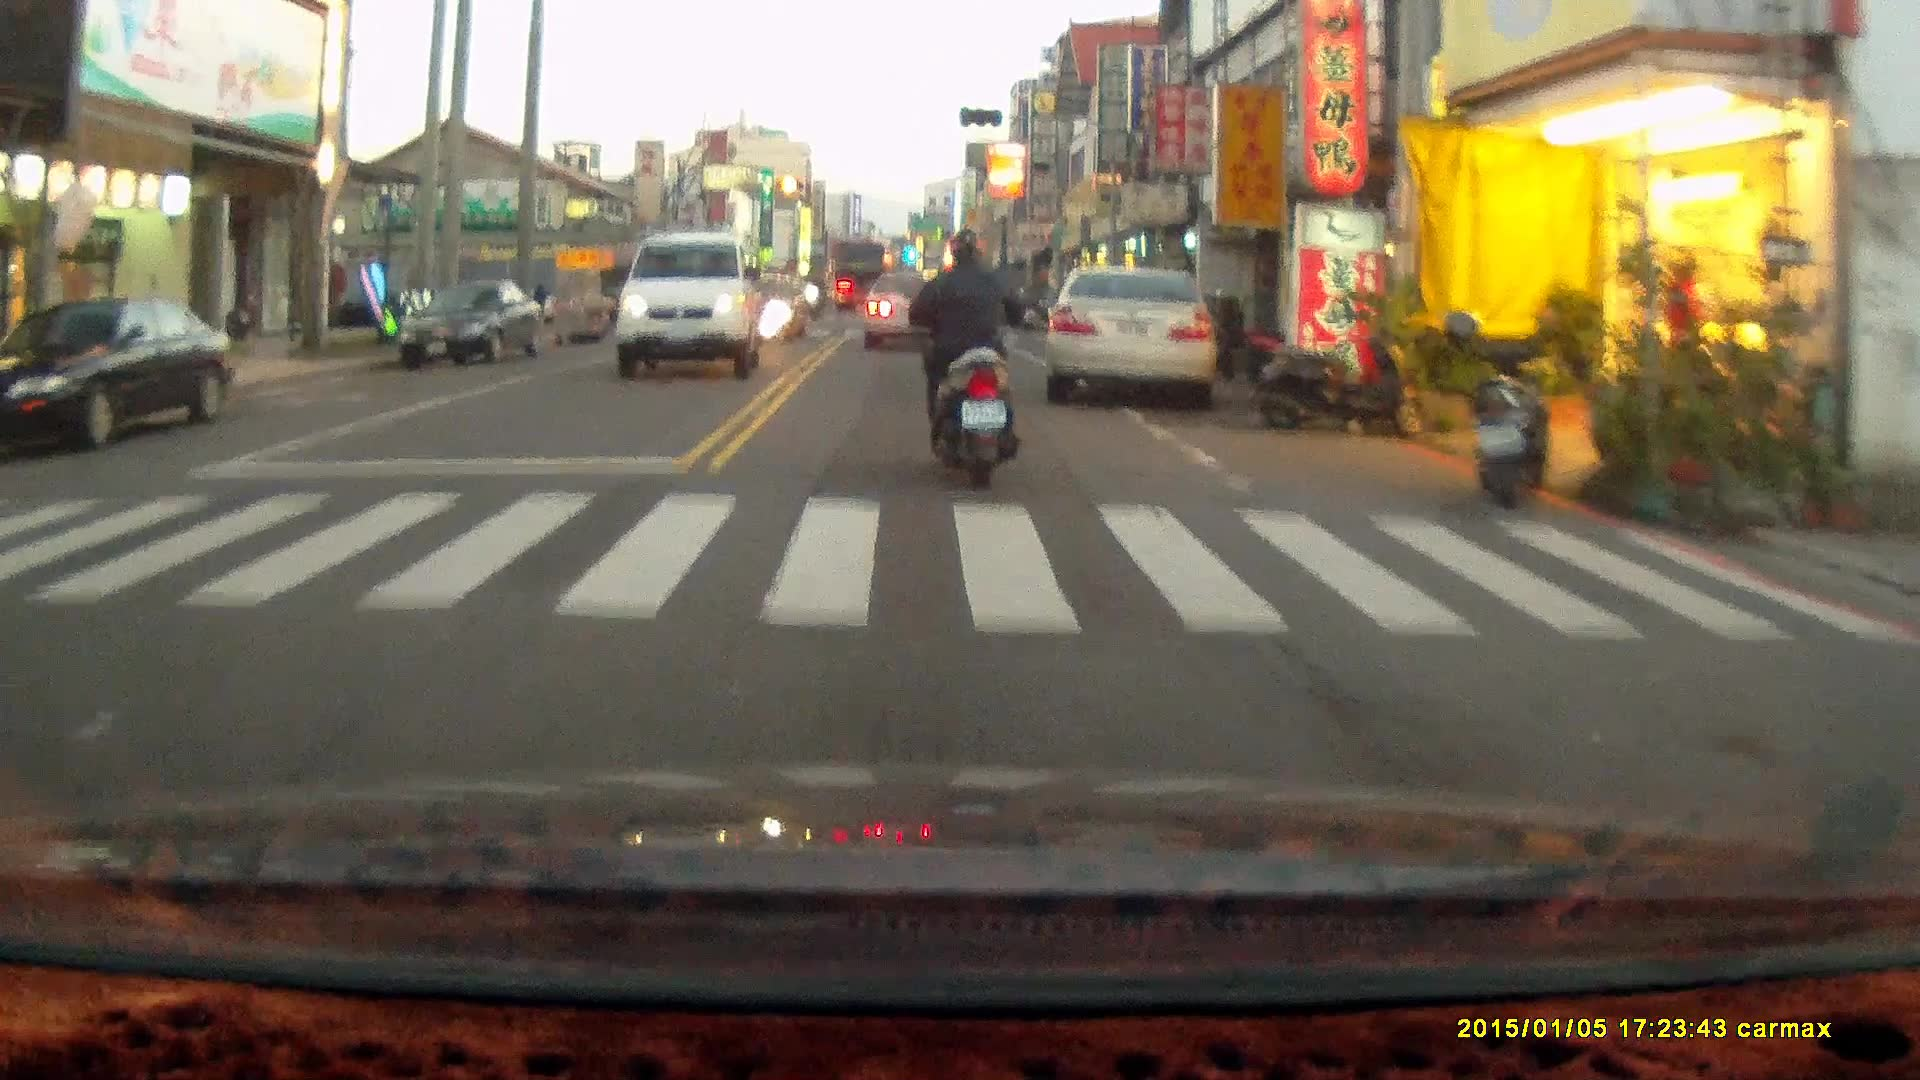pedestrian: (1665, 255, 1706, 400)
rider: (905, 228, 1029, 493)
vehicle: (2, 295, 233, 449), (1047, 267, 1220, 408), (619, 234, 763, 383), (400, 279, 543, 377), (861, 270, 961, 347)
